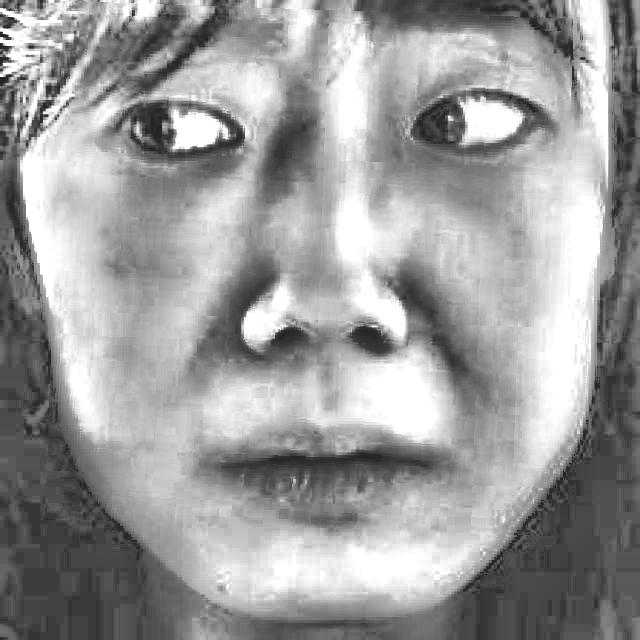fear: (50, 6, 569, 532)
